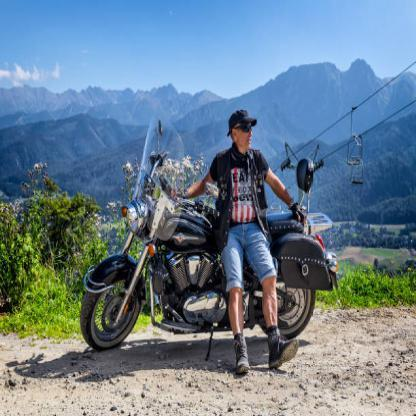Motorcycle: (76, 149, 336, 374)
